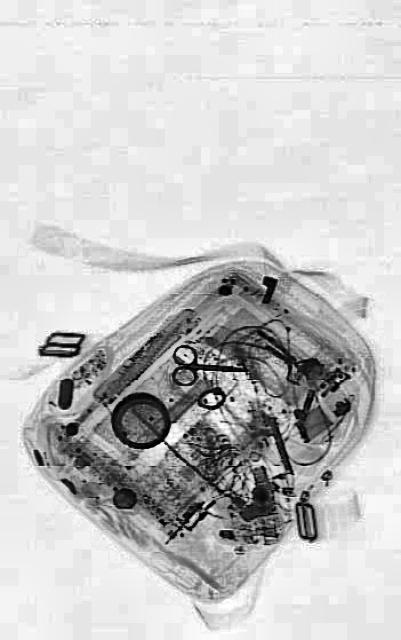Scissors: (170, 341, 246, 389)
